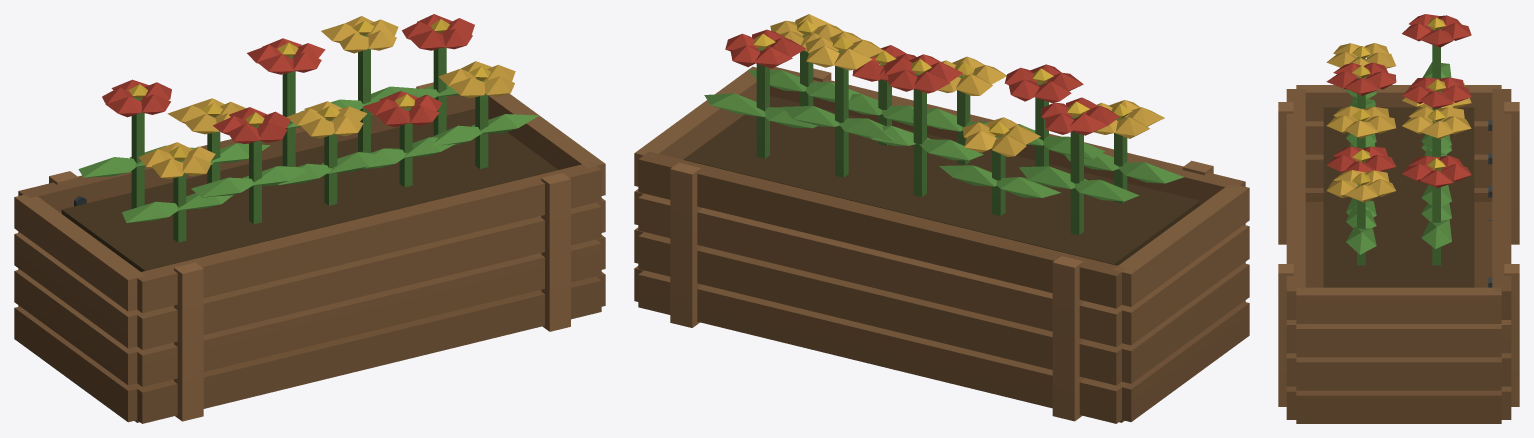
The model's file is town_planter_a.glb.
3 renders of one model, left to right at view 1: azimuth 30°, elevation 25°; view 2: azimuth 150°, elevation 25°; view 3: azimuth 270°, elevation 25°, orthographic. The views are drawn at different scales.
Visible parts, largest first — view 1: town_planter_a; view 2: town_planter_a; view 3: town_planter_a.
Part boxes in pixels (x1,y1,x2,y2): town_planter_a: [14, 14, 605, 423]; town_planter_a: [634, 14, 1249, 423]; town_planter_a: [1278, 14, 1519, 423].
Size of the model in its own units: 1.46 by 0.7896 by 0.705.
